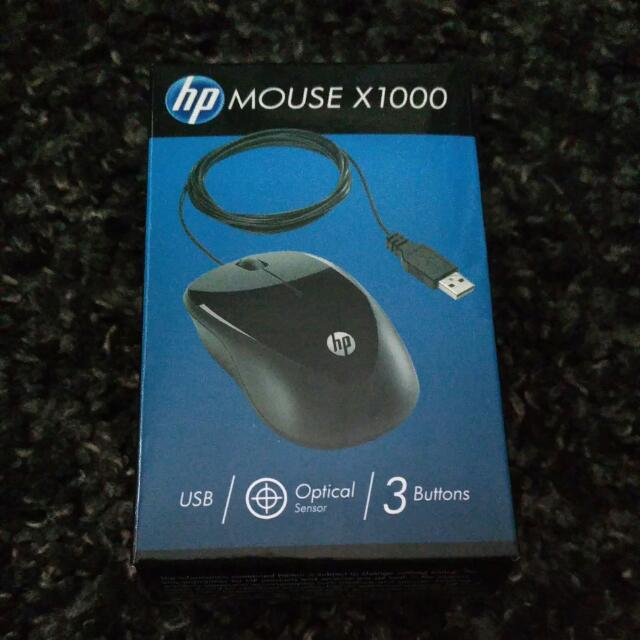hp-mouse-X1000: (179, 140, 472, 443)
